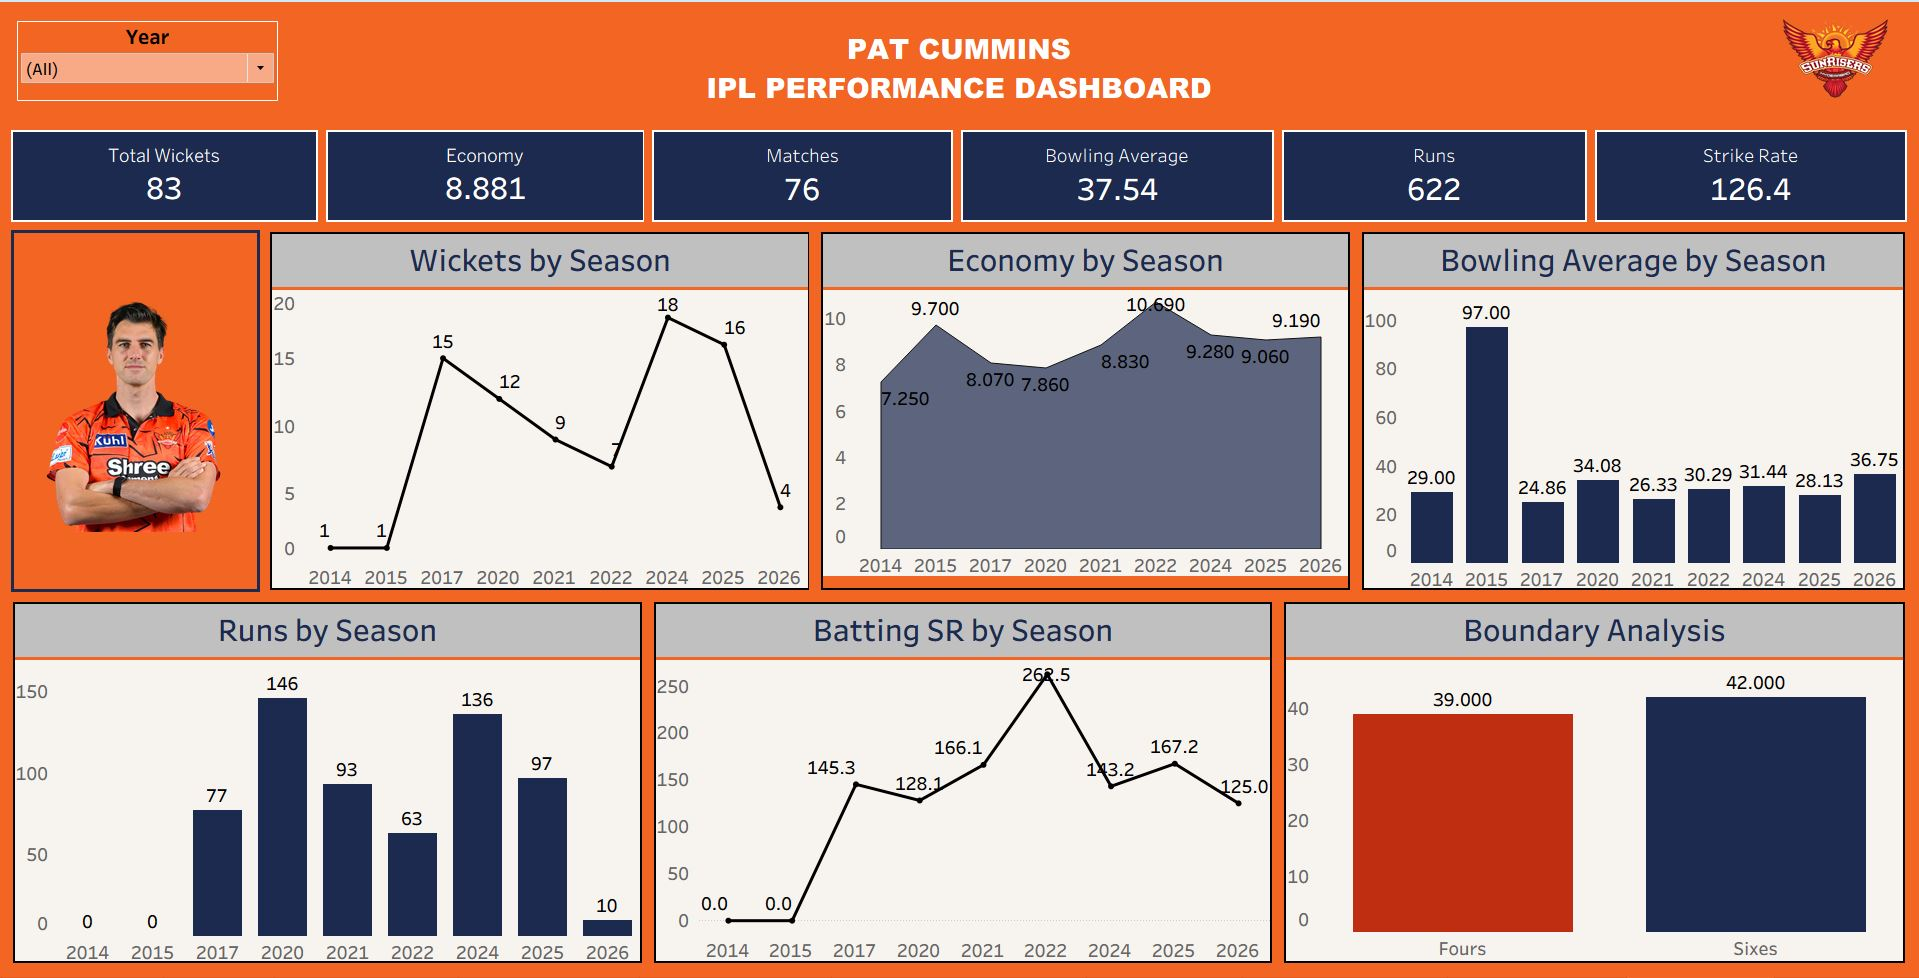

Layout of this report page (visuals, bound fields, positions):
{"tool":"tableau","page":{"name":"Dashboard 1","canvas":[1000,1000],"units":"permille","ordinal":0},"visuals":[{"type":"image","param":"Image/srh-logo.png","box":[924.3,7.9,68.5,98.9]},{"type":"title","box":[4.8,10.6,990.4,118.3]},{"type":"filter","title":"Wickets by Season","param":"[federated.1oww1ca0p6olkd170uh550p3gyhf].[none:Year:nk]","box":[9.6,19.8,135.8,81.8]},{"type":"worksheet","title":"Total Wickets","mark":"Automatic","box":[4.8,128.8,163.7,101.9]},{"type":"worksheet","title":"Economy","mark":"Automatic","box":[168.5,128.8,170,101.9]},{"type":"worksheet","title":"Matches","mark":"Automatic","box":[338.6,128.8,160.5,101.9]},{"type":"worksheet","title":"Bowling Average","mark":"Automatic","box":[499.1,128.8,167,101.9]},{"type":"worksheet","title":"Total Runs","mark":"Automatic","box":[666,128.8,163,101.9]},{"type":"worksheet","title":"Batting Strike Rate","mark":"Automatic","box":[829,128.8,166.2,101.9]},{"type":"image","param":"Image/pat.png","box":[4.8,230.8,133.7,377.7]},{"type":"worksheet","title":"Wickets by Season","mark":"Line","rows":["Wickets"],"cols":["Year (Bowling)"],"box":[138.5,230.8,286.9,377.7]},{"type":"worksheet","title":"Economy by Season","mark":"Area","rows":["Economy"],"cols":["Year (Bowling)"],"box":[425.4,230.8,281.4,377.7]},{"type":"worksheet","title":"Bowling Average by Season","mark":"Automatic","rows":["Bowling Average"],"cols":["Year (Bowling)"],"box":[706.8,230.8,288.4,377.7]},{"type":"worksheet","title":"Runs by Season","mark":"Bar","rows":["Runs"],"cols":["Year"],"box":[4.8,608.5,333.6,381]},{"type":"worksheet","title":"Batting SR by Season","mark":"Line","rows":["Strike Rate"],"cols":["Year"],"box":[338.4,608.5,327.4,381]},{"type":"worksheet","title":"Boundary Analysis","mark":"Automatic","box":[665.9,608.5,329.3,381]}]}

Visuals, with their boxes on the dashboard's canvas, which has no fixed pixel size, in thousandths of its width and height (x1, y1, x2, y2). These are canvas units, not pixel positions in the 1919x978 screenshot, which may show the page scaled, cropped or inside an application window:
image: [924,8,993,107]
title: [5,11,995,129]
"Wickets by Season" filter: [10,20,145,102]
"Total Wickets" worksheet: [5,129,168,231]
"Economy" worksheet: [168,129,338,231]
"Matches" worksheet: [339,129,499,231]
"Bowling Average" worksheet: [499,129,666,231]
"Total Runs" worksheet: [666,129,829,231]
"Batting Strike Rate" worksheet: [829,129,995,231]
image: [5,231,138,608]
"Wickets by Season" worksheet (Line marks): [138,231,425,608]
"Economy by Season" worksheet (Area marks): [425,231,707,608]
"Bowling Average by Season" worksheet: [707,231,995,608]
"Runs by Season" worksheet (Bar marks): [5,608,338,990]
"Batting SR by Season" worksheet (Line marks): [338,608,666,990]
"Boundary Analysis" worksheet: [666,608,995,990]
